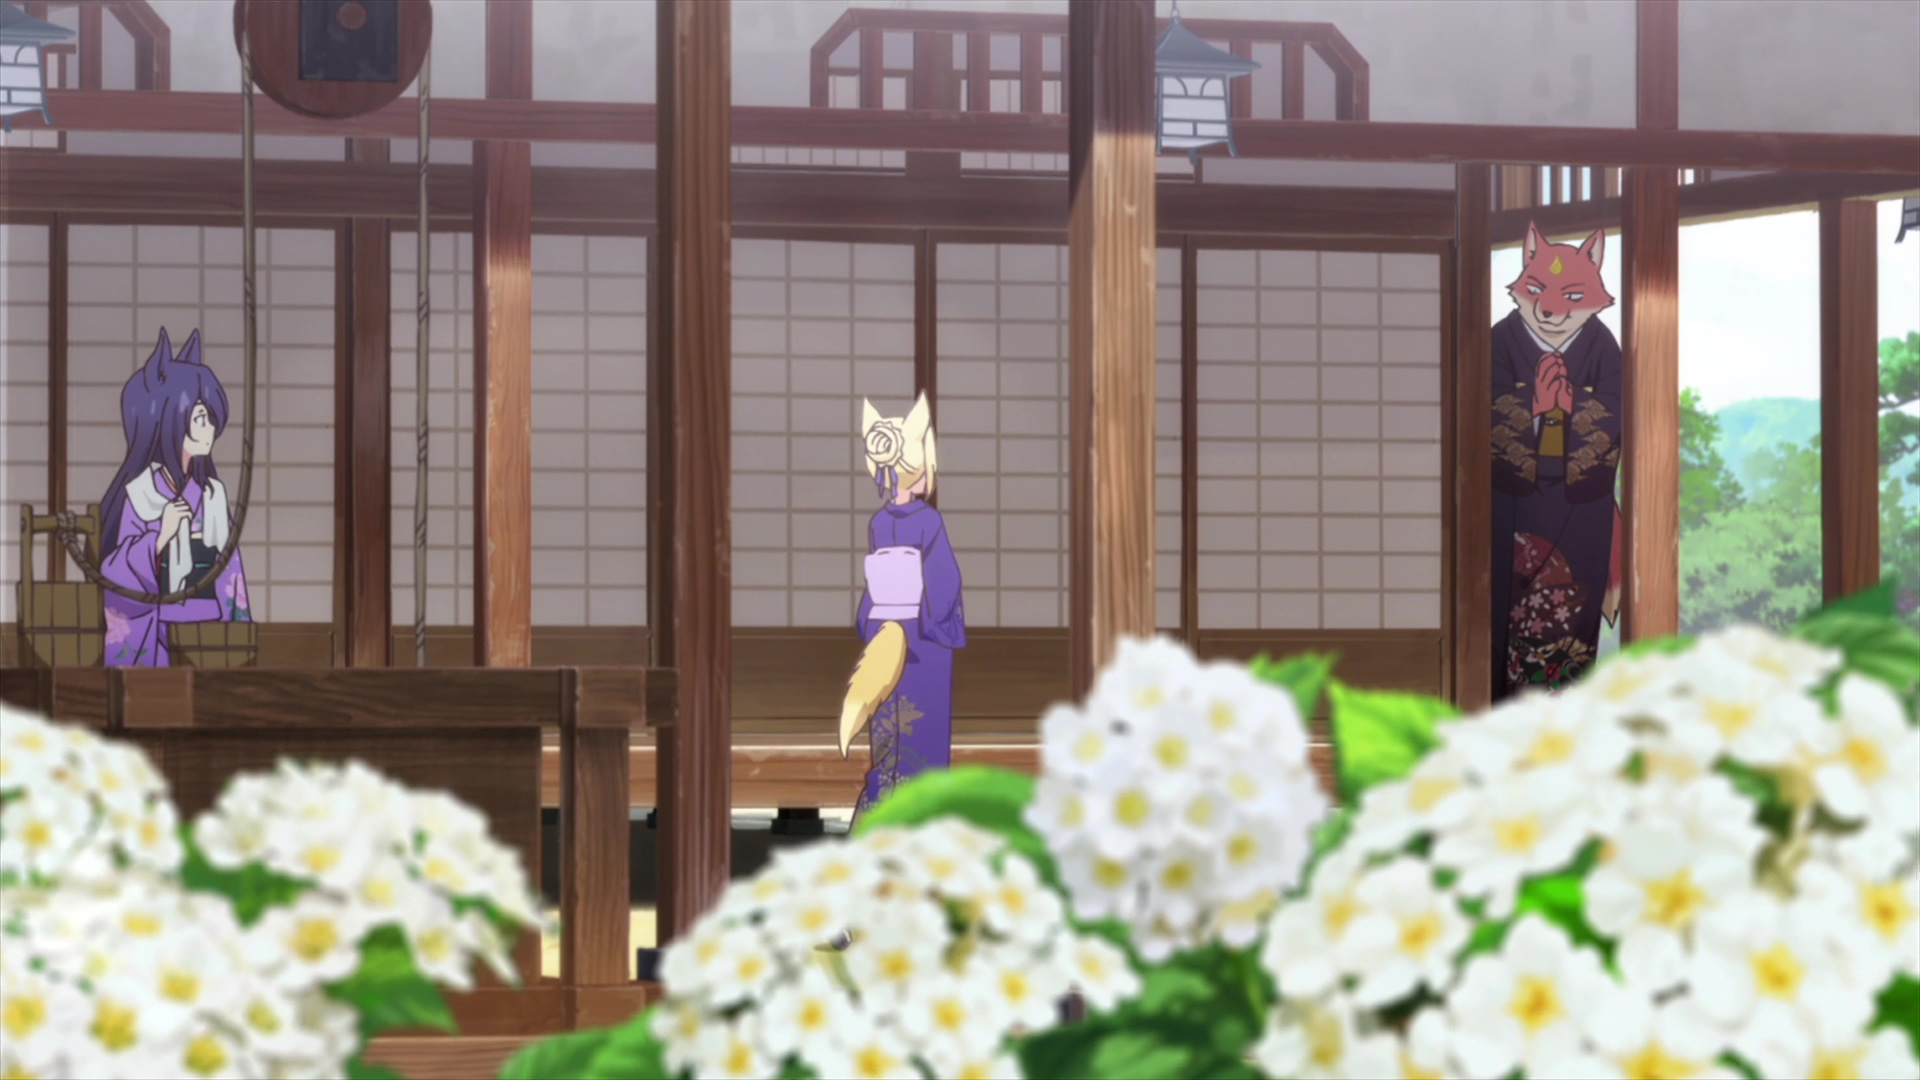桐: (840, 389, 967, 798)
椿: (1491, 220, 1621, 705)
皋: (103, 326, 252, 667)
